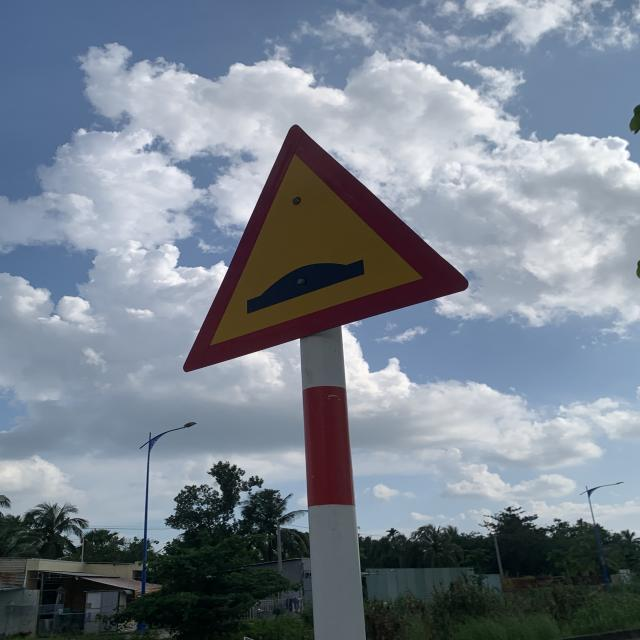Duong_Cong_Ben_Phai: (184, 124, 472, 372)
